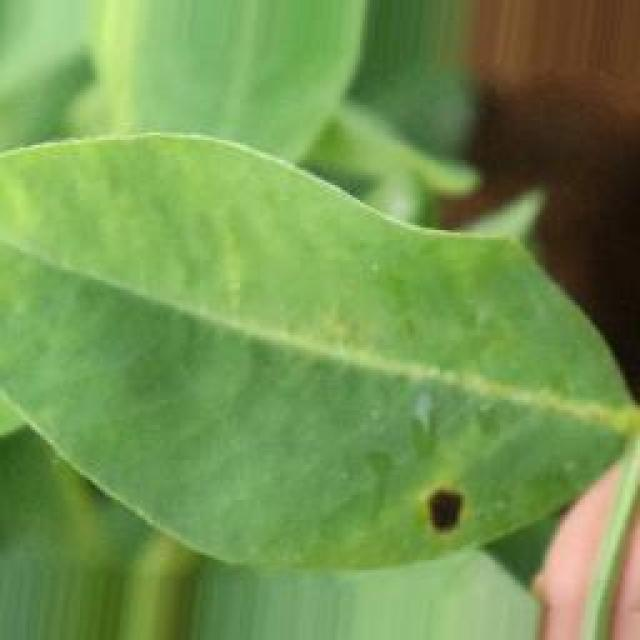Early_leaf_spot: (415, 466, 530, 552)
